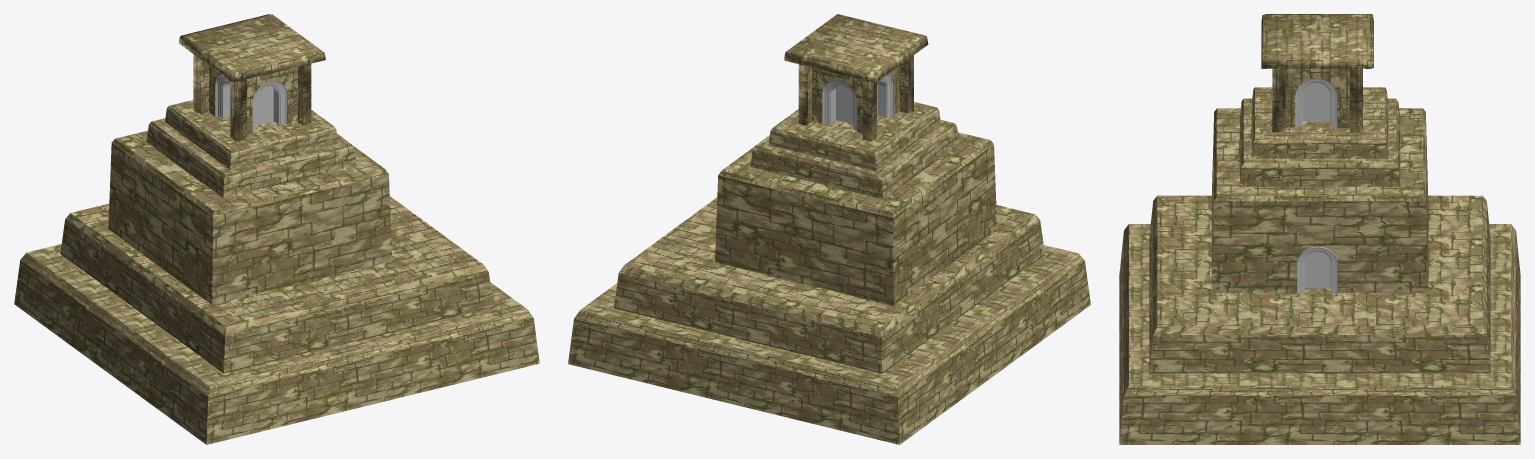
The model's file is BigTemple.fbx.
3 renders of one model, left to right at view 1: azimuth 30°, elevation 25°; view 2: azimuth 150°, elevation 25°; view 3: azimuth 270°, elevation 25°, orthographic. The views are drawn at different scales.
Parts seen in each view (by area): view 1: Cube, Cube.007, Cube.010, object4.001, Cube.014, Cube.016; view 2: Cube, Cube.007, Cube.010, object4.001, Cube.014, Cube.016; view 3: Cube.007, Cube, Cube.010, object4.001, Cube.016, Cube.014, object4.002.
Part boxes in pixels (x1,y1,x2,y2): Cube: (14, 244, 539, 444); Cube.007: (60, 196, 493, 373); Cube.010: (108, 130, 391, 305); object4.001: (179, 14, 325, 141); Cube.014: (146, 118, 356, 197); Cube.016: (165, 100, 337, 169); Cube: (568, 245, 1090, 444); Cube.007: (614, 197, 1044, 373); Cube.010: (715, 132, 997, 305); object4.001: (784, 14, 928, 141); Cube.014: (750, 120, 959, 199); Cube.016: (768, 102, 940, 171); Cube.007: (1149, 195, 1490, 373); Cube: (1119, 224, 1520, 444); Cube.010: (1211, 108, 1428, 292); object4.001: (1261, 14, 1373, 132); Cube.016: (1251, 87, 1388, 158); Cube.014: (1239, 98, 1400, 186); object4.002: (1297, 246, 1337, 294).
Bounding box in the file's own units: 2150 × 1835 × 2150.
